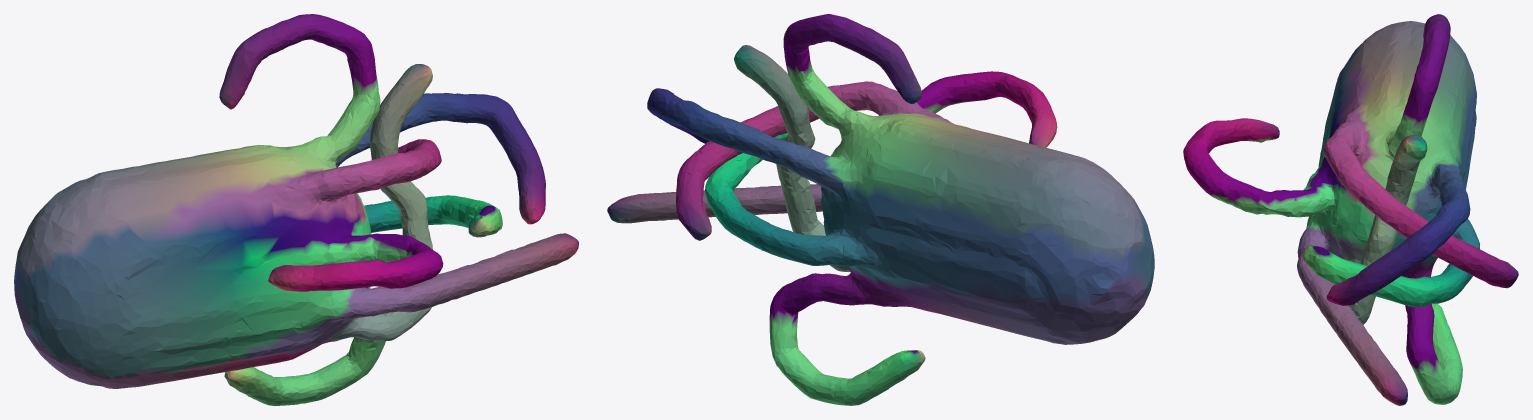
Rendered from octopus-16.off.obj.
3 renders of one model, left to right at view 1: azimuth 30°, elevation 25°; view 2: azimuth 150°, elevation 25°; view 3: azimuth 270°, elevation 25°, orthographic. The views are drawn at different scales.
Size of the model in its own units: 1.6 by 1.09 by 0.9025.
